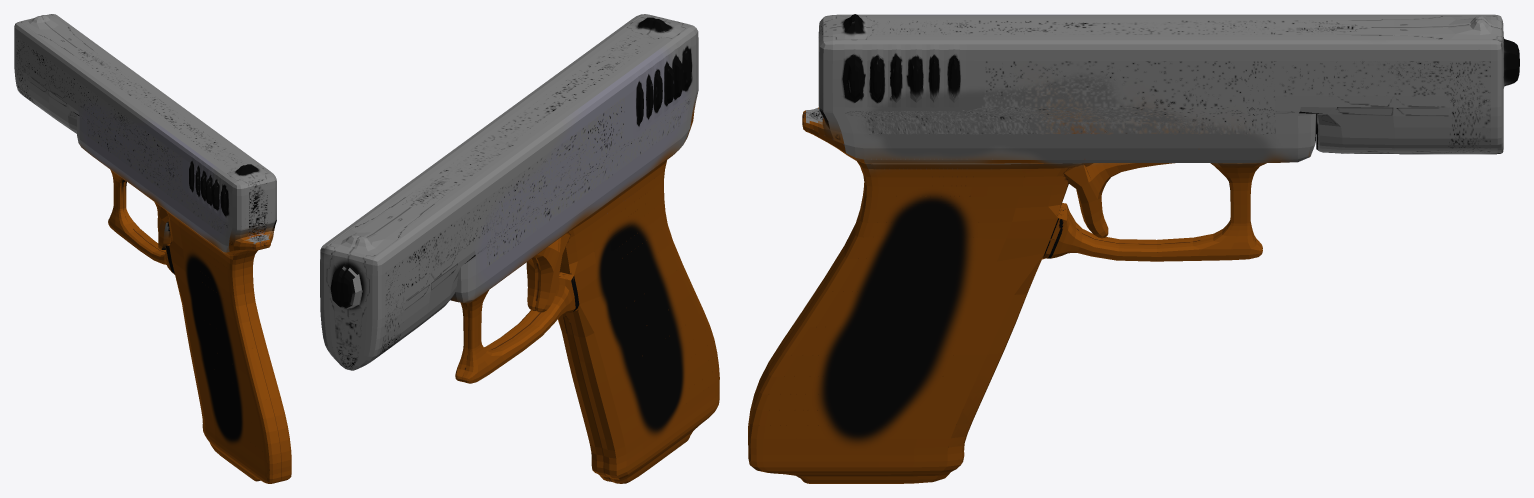
File: Gun.fbx
The picture shows the model from 3 angles, left to right: view 1: azimuth 30°, elevation 25°; view 2: azimuth 150°, elevation 25°; view 3: azimuth 270°, elevation 25°; orthographic projection. The views are drawn at different scales.
Visible parts, largest first — view 1: Cube; view 2: Cube; view 3: Cube.
Boxes of the visible parts, <box> form: Cube: <box>14,14,291,483</box>; Cube: <box>320,14,719,483</box>; Cube: <box>748,14,1519,483</box>.
Bounding box in the file's own units: 50.25 × 268 × 405.
1 material, 1 textured.
